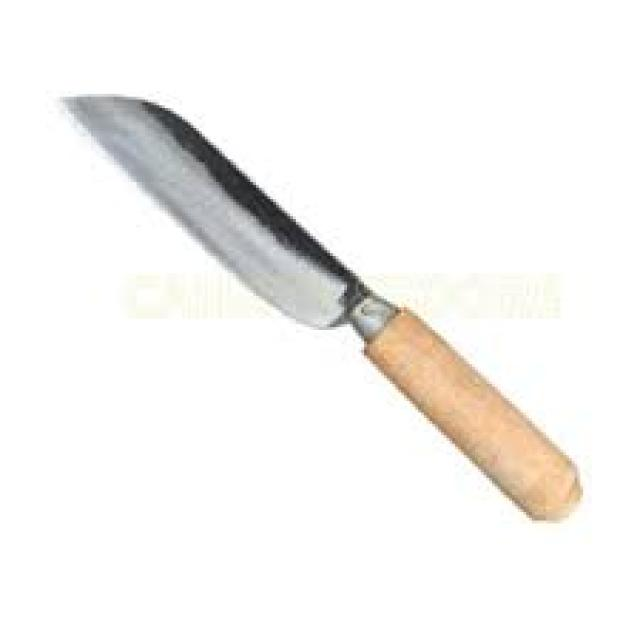Knife: (60, 94, 580, 521)
